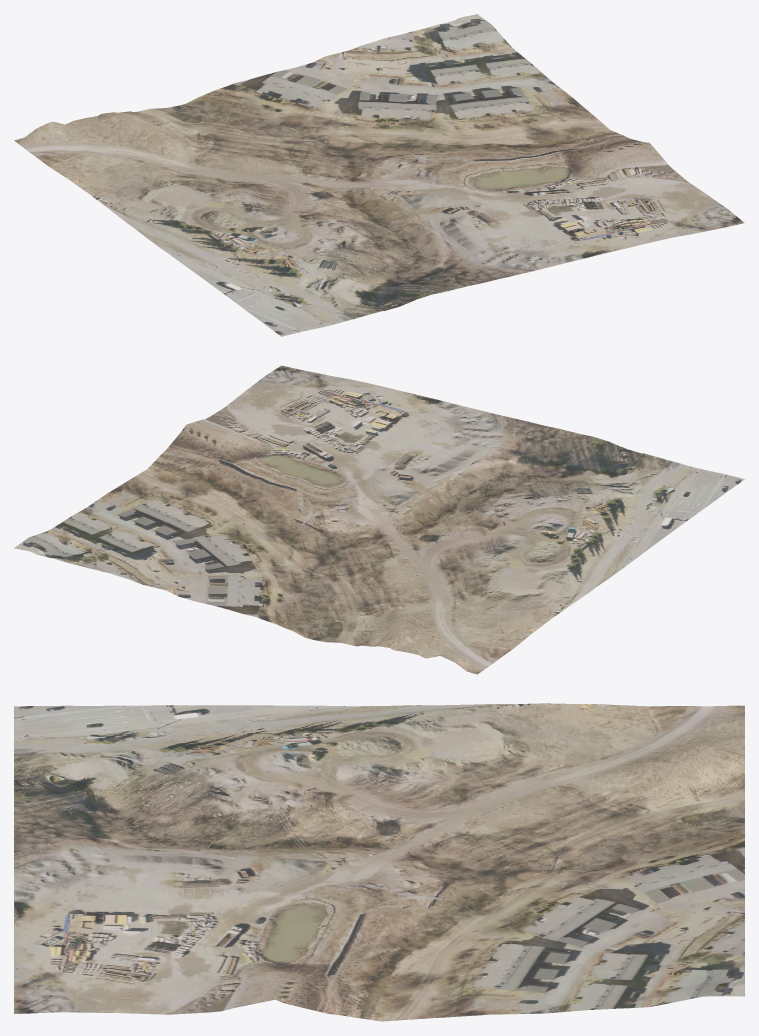
File: CM_Terrain_24490663_6819999.fbx
The picture shows the model from 3 angles, top to bottom: view 1: azimuth 30°, elevation 25°; view 2: azimuth 150°, elevation 25°; view 3: azimuth 270°, elevation 25°; orthographic projection. The views are drawn at different scales.
Parts seen in each view (by area): view 1: CM_Terrain_24490663_6819999_LOD0; view 2: CM_Terrain_24490663_6819999_LOD0; view 3: CM_Terrain_24490663_6819999_LOD0.
Part boxes in pixels (left/top/right/bottom): CM_Terrain_24490663_6819999_LOD0: left=14, top=14, right=744, bottom=336; CM_Terrain_24490663_6819999_LOD0: left=14, top=365, right=744, bottom=674; CM_Terrain_24490663_6819999_LOD0: left=14, top=703, right=744, bottom=1021.
Size of what is drawn, in the model's own units: 205 by 9.12 by 205.
